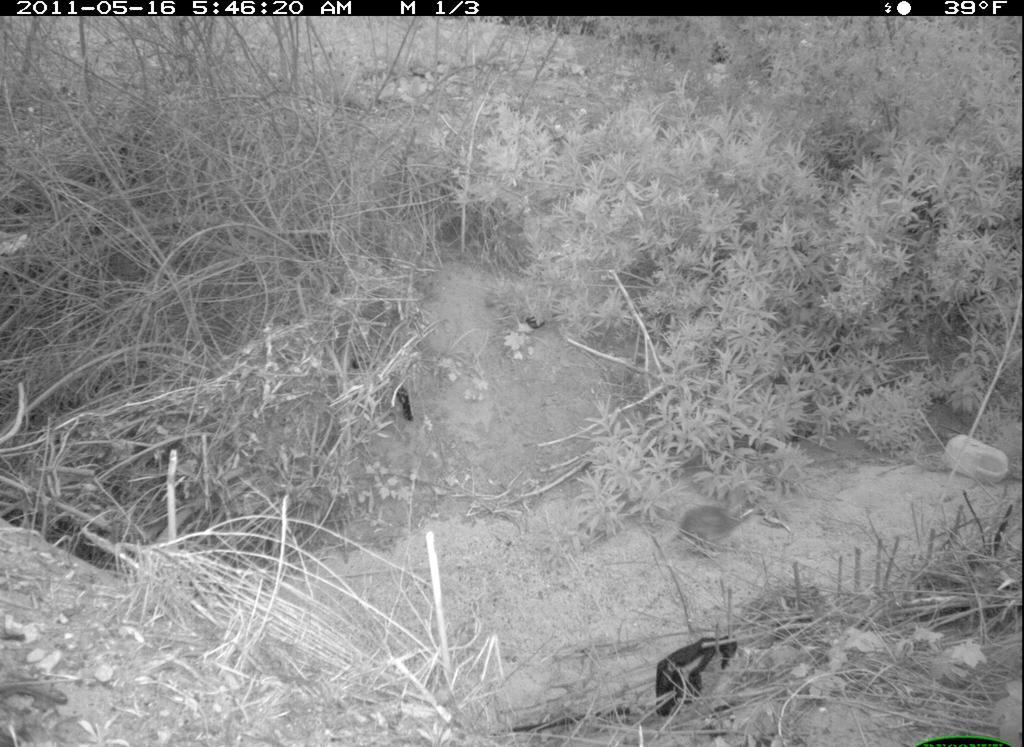rabbit: (674, 478, 763, 571)
